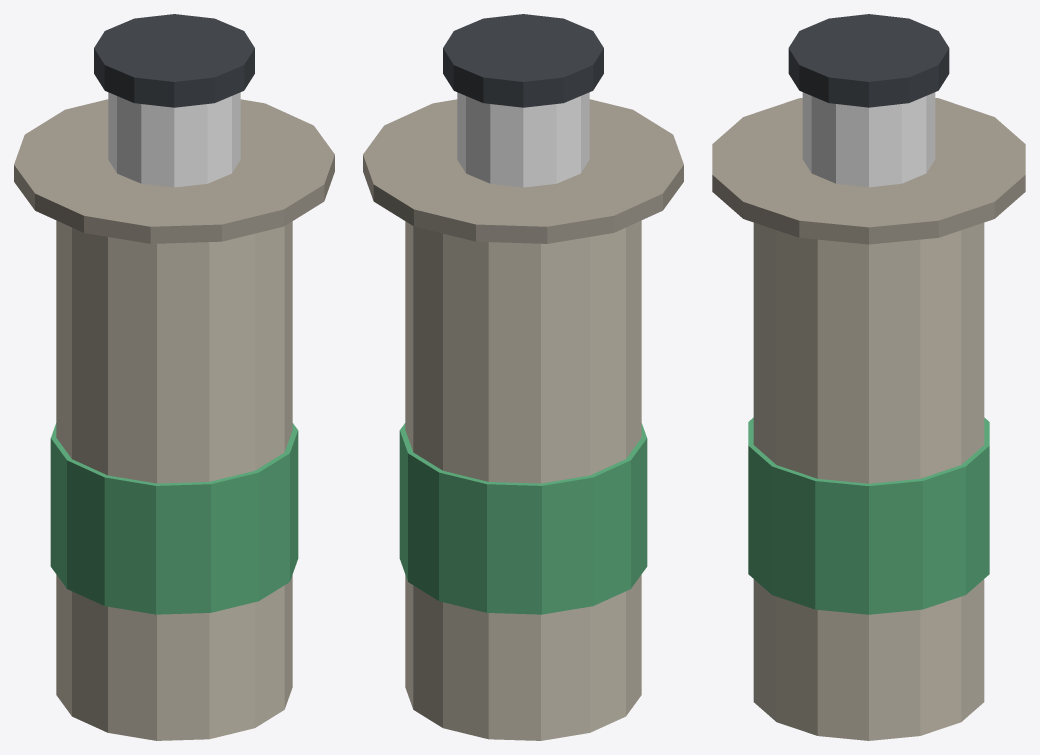
Rendered from breakwater_light_green.glb.
The picture shows the model from 3 angles, left to right: view 1: azimuth 30°, elevation 25°; view 2: azimuth 150°, elevation 25°; view 3: azimuth 270°, elevation 25°; orthographic projection.
Parts seen in each view (by area): view 1: LOD0; view 2: LOD0; view 3: LOD0.
Boxes of the visible parts, x1,y1,x2,y2 form: LOD0: (14, 14, 334, 740); LOD0: (363, 14, 683, 740); LOD0: (712, 14, 1025, 740).
Size of what is drawn, in the model's own units: 6.8 by 15 by 6.63.
